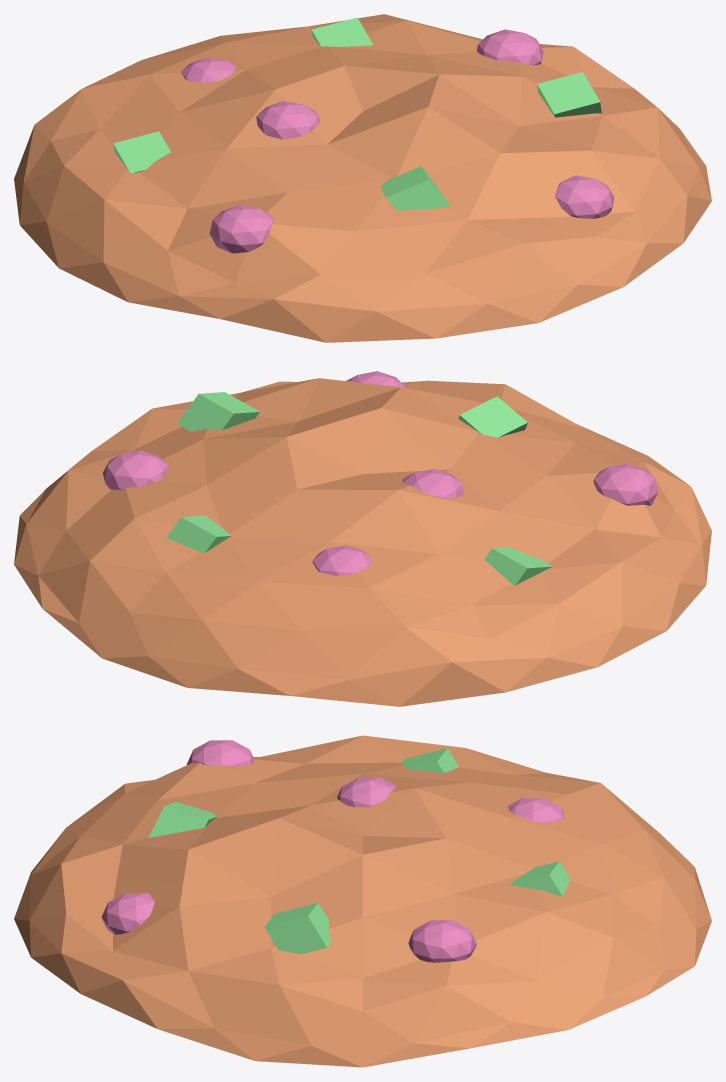
File: füllung_topf_extra.fbx
The picture shows the model from 3 angles, top to bottom: view 1: azimuth 30°, elevation 25°; view 2: azimuth 150°, elevation 25°; view 3: azimuth 270°, elevation 25°; orthographic projection.
Visible parts, largest first — view 1: Icosphere.004; view 2: Icosphere.004; view 3: Icosphere.004.
Part boxes in pixels (bbox=[...]): Icosphere.004: bbox=[14, 14, 711, 342]; Icosphere.004: bbox=[14, 371, 711, 706]; Icosphere.004: bbox=[14, 735, 711, 1067].
Bounding box in the file's own units: 66.18 × 11.97 × 66.18.
